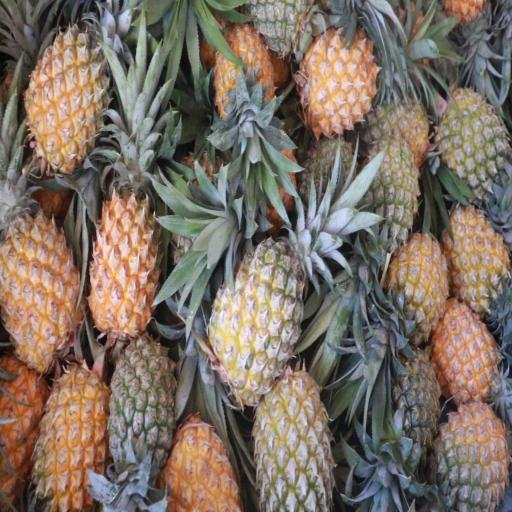------------------------------: (212, 246, 301, 396), (256, 366, 330, 512)
Pineapple - v8 v1: (2, 194, 83, 361), (36, 360, 108, 510), (90, 184, 159, 338), (26, 29, 103, 164), (304, 30, 380, 129), (0, 354, 44, 509), (436, 305, 501, 408), (165, 420, 237, 512), (448, 204, 505, 314), (392, 232, 447, 342), (214, 28, 275, 124)
